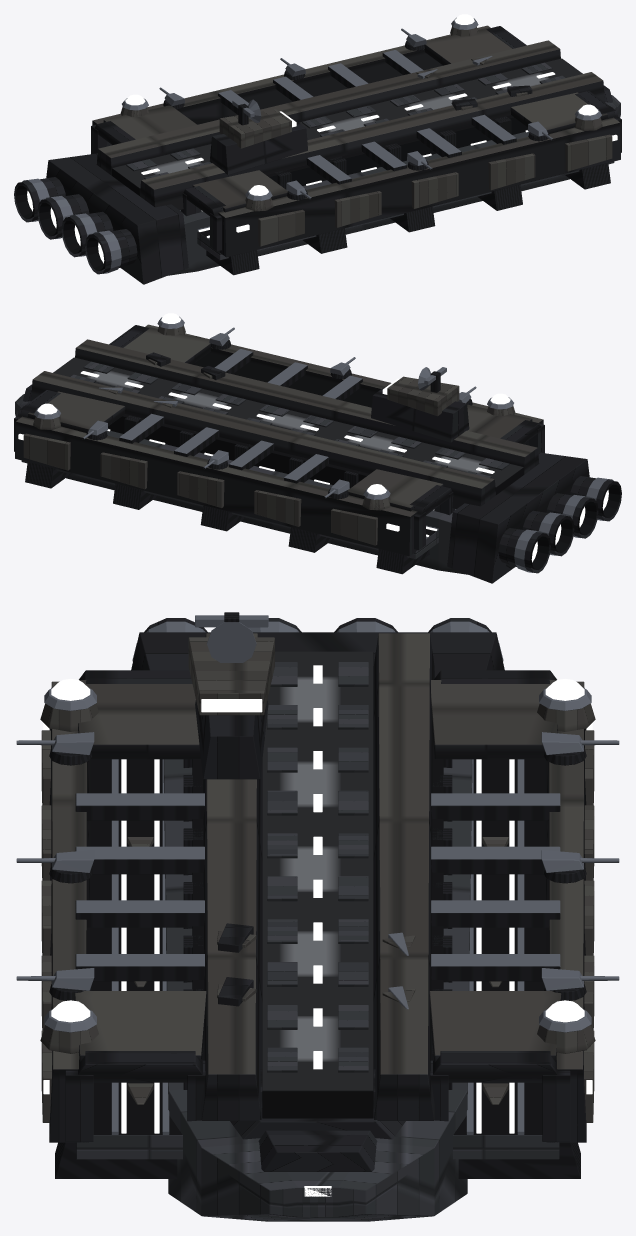
File: carrier.glb
3 renders of one model, top to bottom at view 1: azimuth 30°, elevation 25°; view 2: azimuth 150°, elevation 25°; view 3: azimuth 270°, elevation 25°, orthographic. The views are drawn at different scales.
Visible parts, largest first — view 1: carrier; view 2: carrier; view 3: carrier.
Part boxes in pixels (x1,y1,x2,y2): carrier: (14,14,621,284); carrier: (14,313,621,583); carrier: (16,612,619,1221).
Bounding box in the file's own units: 55 × 13.68 × 26.14.
1 material, 1 textured.
